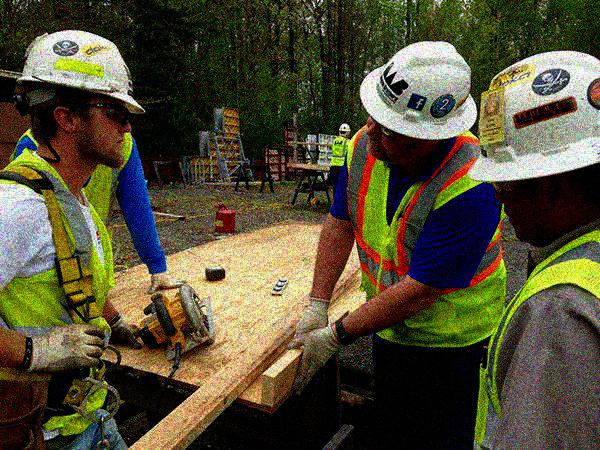helmet: (472, 46, 600, 240), (13, 27, 147, 161), (360, 39, 478, 168), (339, 121, 351, 139)
